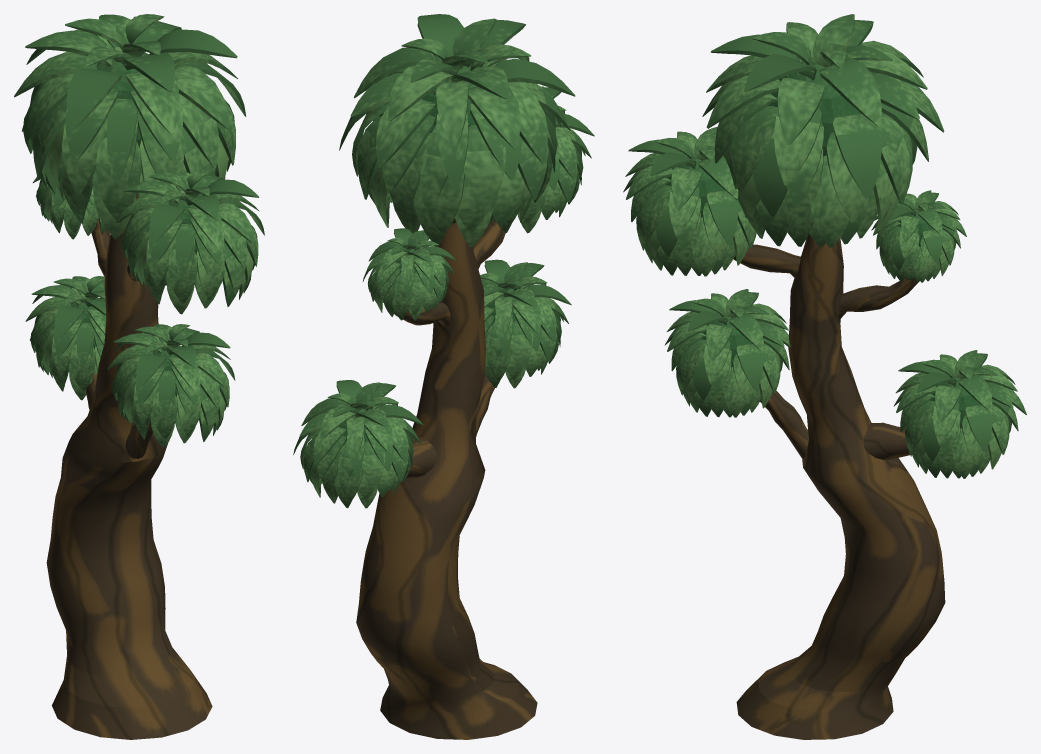
File: OrganicTree.fbx
The picture shows the model from 3 angles, left to right: view 1: azimuth 30°, elevation 25°; view 2: azimuth 150°, elevation 25°; view 3: azimuth 270°, elevation 25°; orthographic projection.
Visible parts, largest first — view 1: polySurface404; view 2: polySurface404; view 3: polySurface404.
Part boxes in pixels (<box>): polySurface404: <box>14,14,264,739</box>; polySurface404: <box>293,14,594,739</box>; polySurface404: <box>623,14,1026,739</box>.
Size of the model in its own units: 2.31 by 7.67 by 4.19.
1 material, 1 textured.
